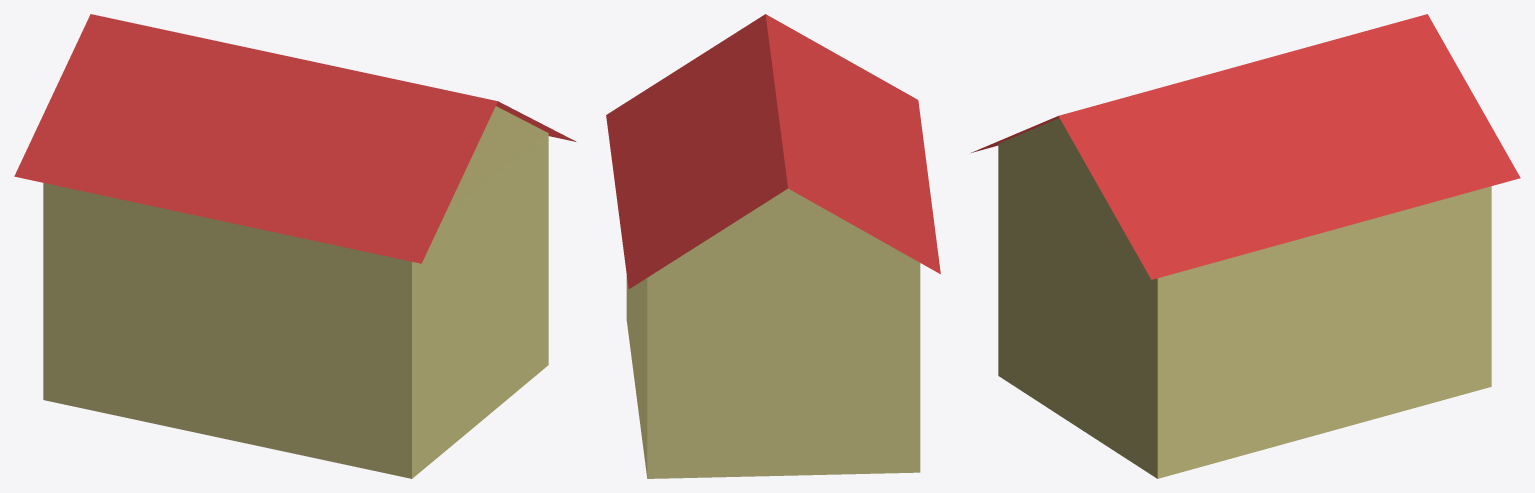
The picture shows the model from 3 angles, left to right: view 1: azimuth 30°, elevation 25°; view 2: azimuth 150°, elevation 25°; view 3: azimuth 270°, elevation 25°; orthographic projection. The views are drawn at different scales.
Bounding box in the file's own units: 18.57 × 19.69 × 12.41.
